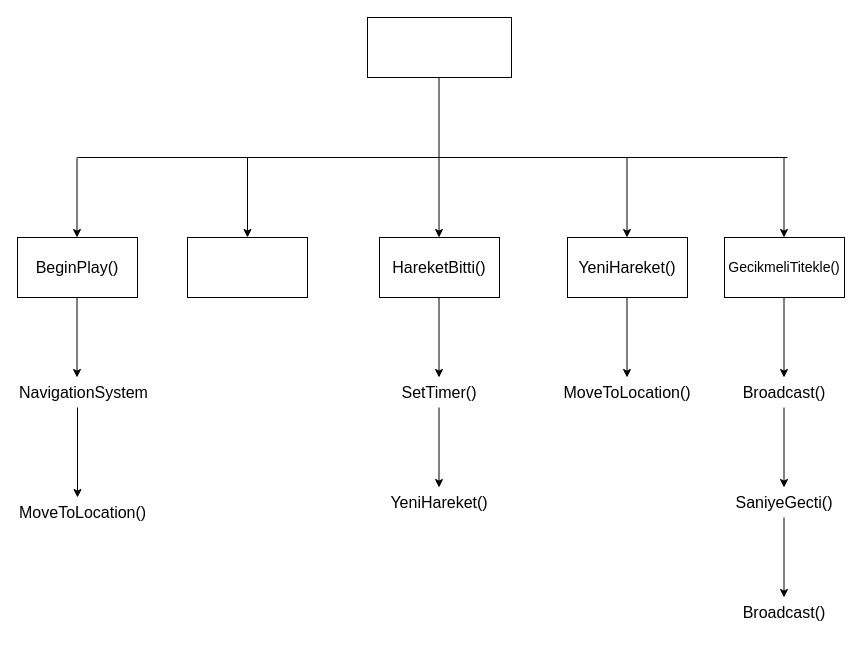
Image size: 862x645. Some labels were removed from this diagram. The centre of each missing label's shape, as x and y in pixels:
AAI_CharacterCpp: point 439,47
Tick(): point 247,267
